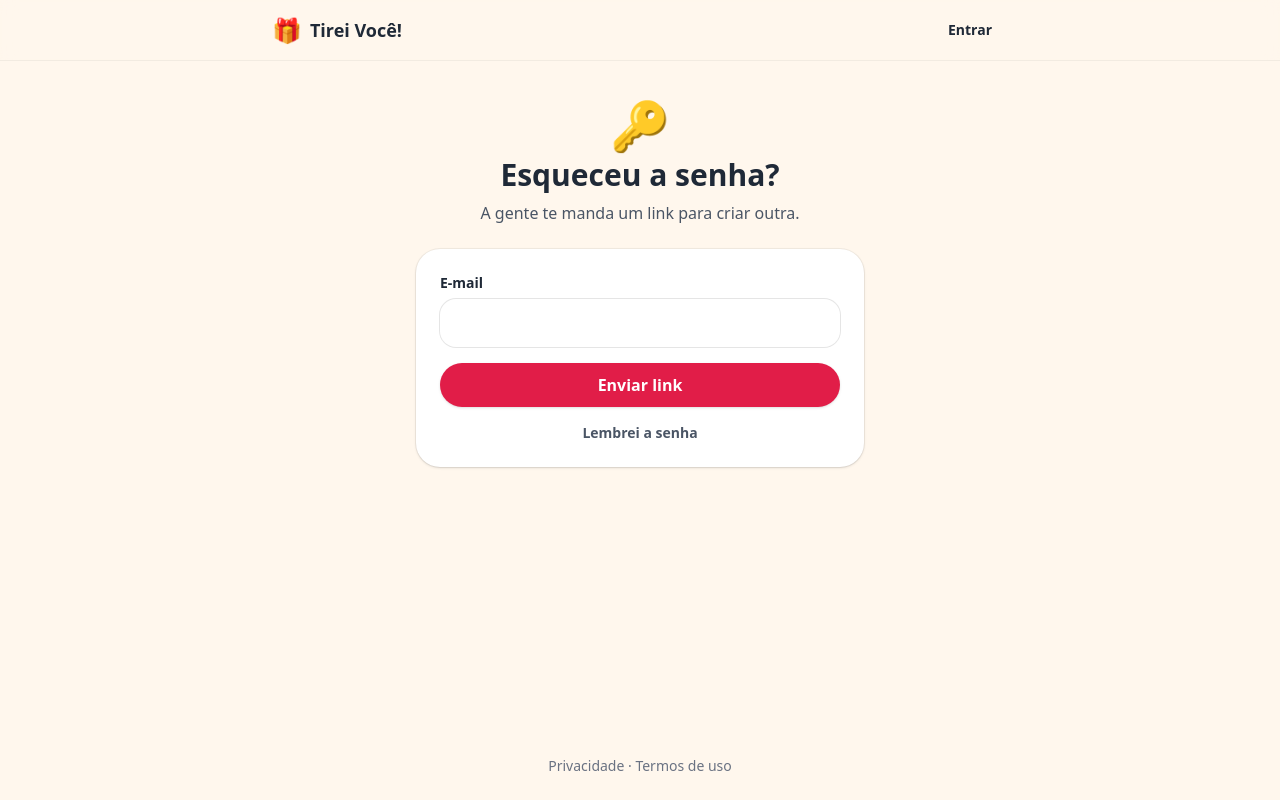
it: esqueci a senha mostra resposta genérica
Step 1. Type "x@example.com" into the field labelled "E-mail" → (640, 323), box [440,299,840,347]
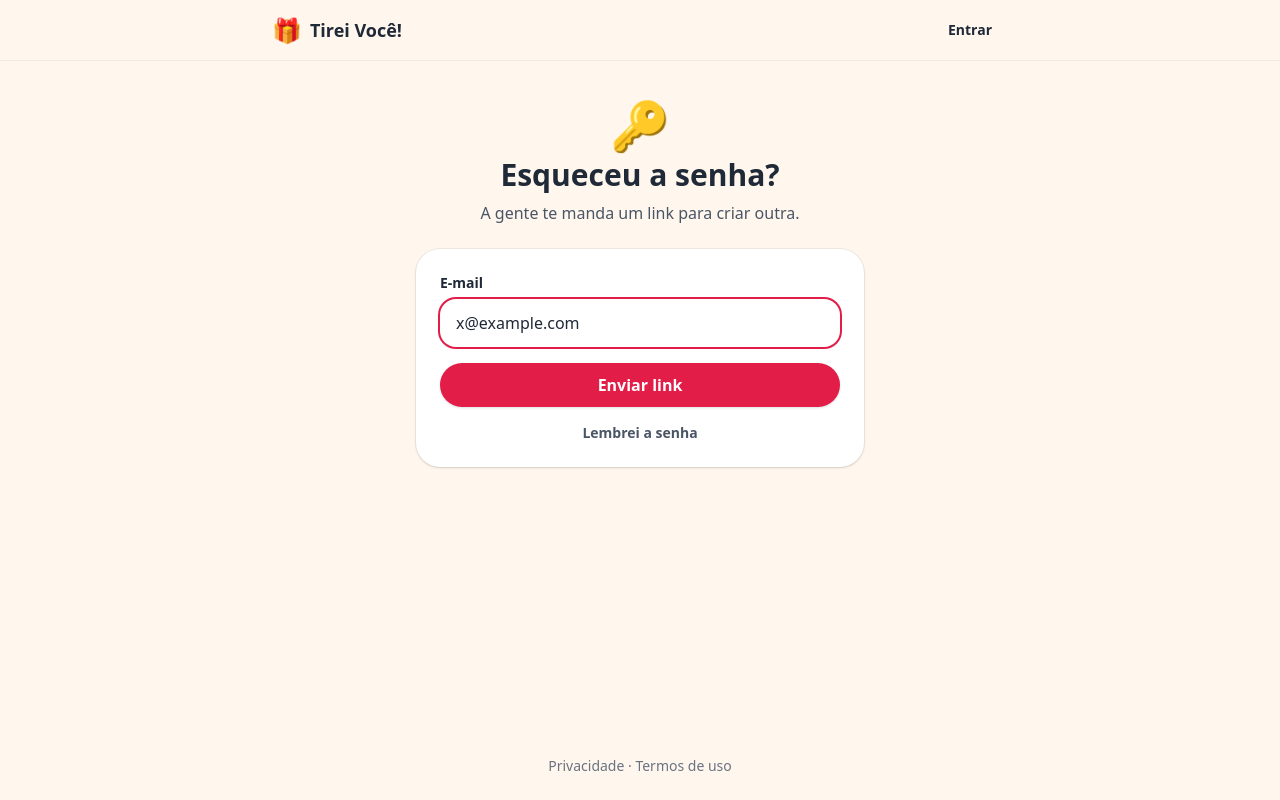
Step 2. Click the button "Enviar link" → (640, 385), box [440,363,840,407]
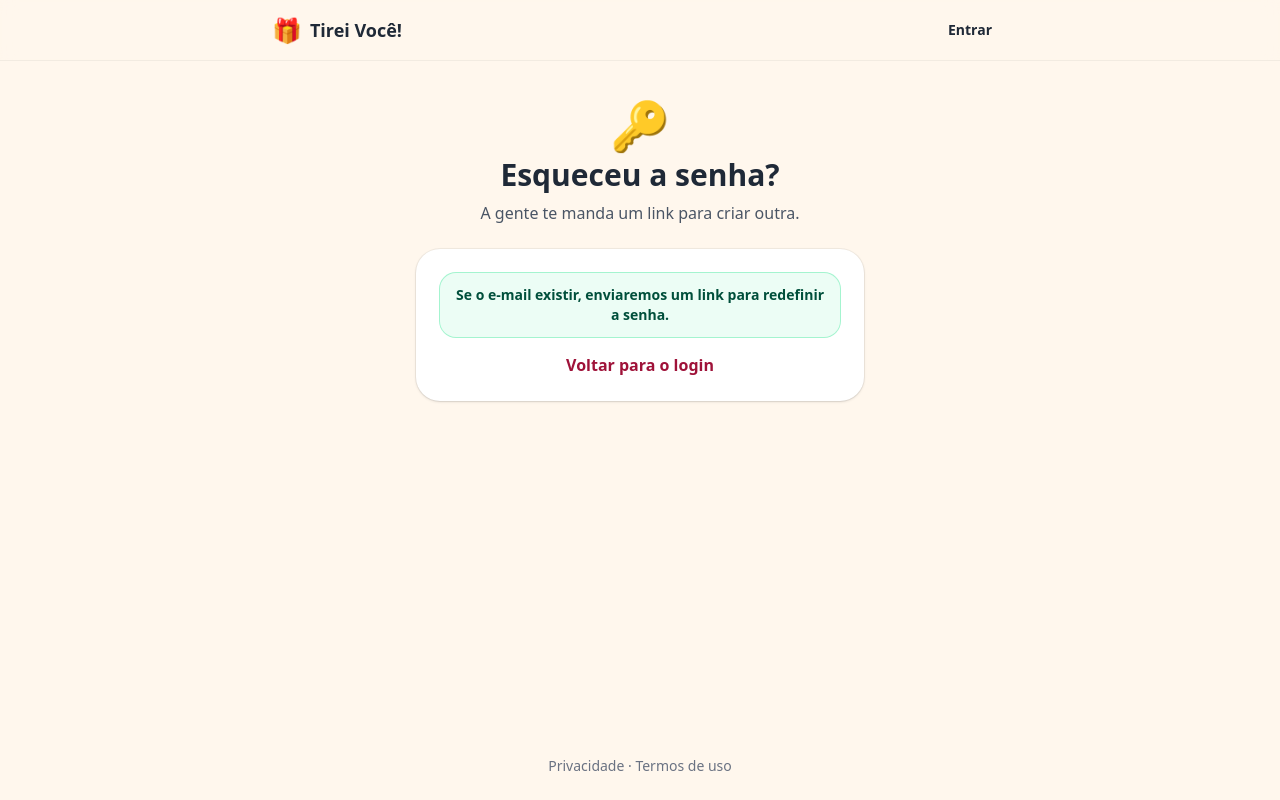
Expected: the text "Se o e-mail existir, enviaremos um link para redefinir a senha." is shown, [440,273,840,337]
